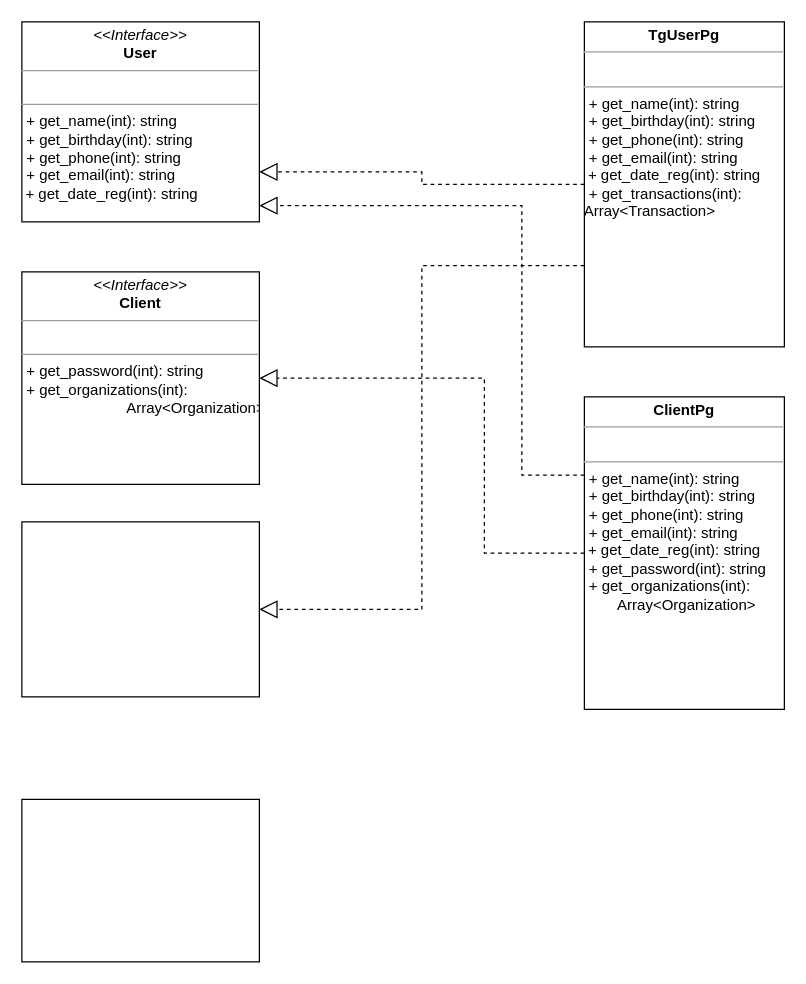
Some shapes in this 806 by 984 pixel diagram are drawn without their labels. Each missing label, with the box of its shape:
<<Interface>> Interface + method1(Type): Type + method2(Type, Type): Type: (21, 798, 259, 962)
<<Interface>> TgUser + get_transactions(int): Array<Transaction>: (21, 521, 259, 697)
